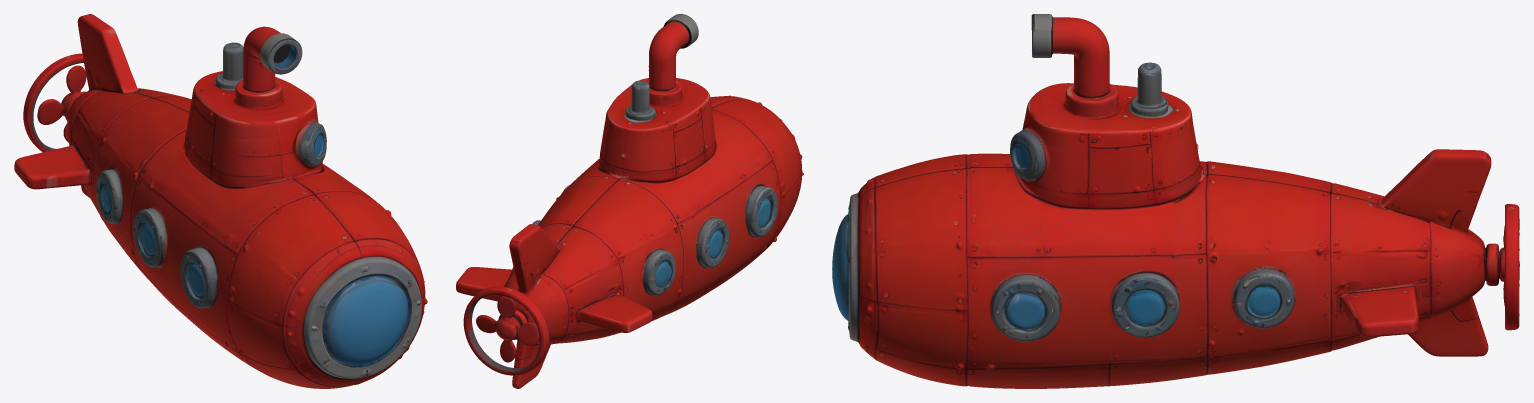
File: submarino.glb
3 views of the same model, side by side, from view 1: azimuth 30°, elevation 25°; view 2: azimuth 150°, elevation 25°; view 3: azimuth 270°, elevation 25° (orthographic). The views are drawn at different scales.
Visible parts, largest first — view 1: tripo_node_c139cc28-8b0b-4dc3-b6c0-8dc9b94f954c; view 2: tripo_node_c139cc28-8b0b-4dc3-b6c0-8dc9b94f954c; view 3: tripo_node_c139cc28-8b0b-4dc3-b6c0-8dc9b94f954c.
Part boxes in pixels (box(x1,y1,x2,y2)): tripo_node_c139cc28-8b0b-4dc3-b6c0-8dc9b94f954c: box(14, 14, 427, 388); tripo_node_c139cc28-8b0b-4dc3-b6c0-8dc9b94f954c: box(456, 14, 803, 388); tripo_node_c139cc28-8b0b-4dc3-b6c0-8dc9b94f954c: box(832, 14, 1519, 388).
Bounding box in the file's own units: 0.4166 × 0.5778 × 1.
1 material, 1 textured.
